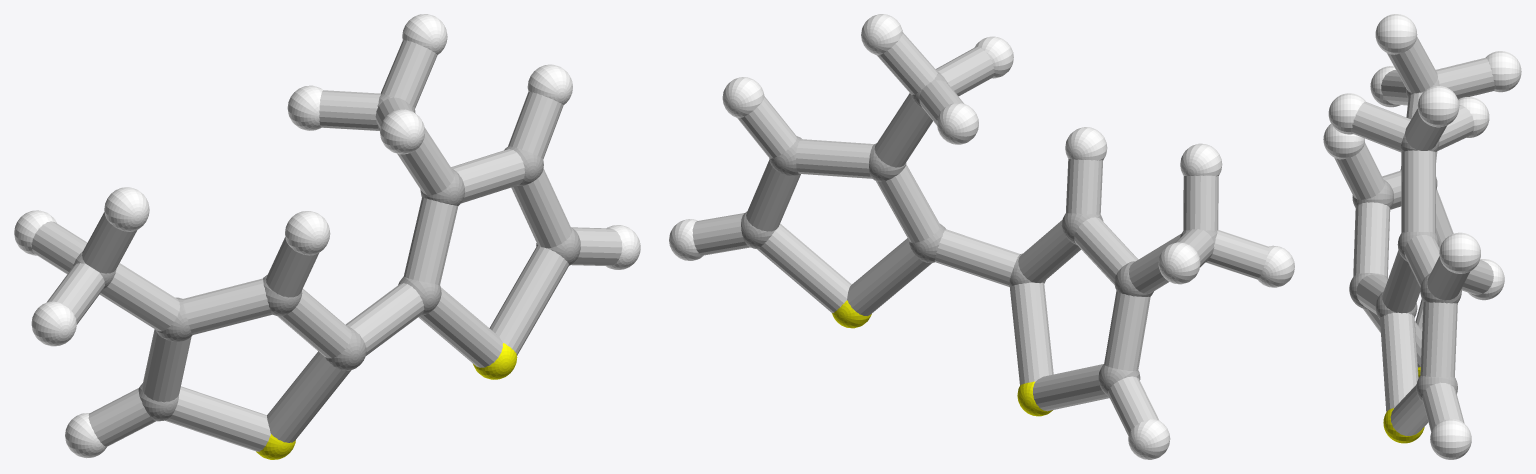
File: Methylthiophene_Phi_40_Theta_160_Methylthiophene.glb
The picture shows the model from 3 angles, left to right: view 1: azimuth 30°, elevation 25°; view 2: azimuth 150°, elevation 25°; view 3: azimuth 270°, elevation 25°; orthographic projection. The views are drawn at different scales.
Parts seen in each view (by area): view 1: grp7965, grp3621, grp1, grp7241; view 2: grp7965, grp3621, grp1, grp7241; view 3: grp7965, grp3621, grp1, grp7241.
Boxes of the visible parts, <box> form: grp7965: <box>31,40,622,451</box>; grp3621: <box>14,14,640,458</box>; grp1: <box>73,94,580,421</box>; grp7241: <box>256,343,517,459</box>; grp7965: <box>692,32,1269,435</box>; grp3621: <box>669,14,1294,459</box>; grp1: <box>741,72,1217,396</box>; grp7241: <box>832,300,1052,416</box>; grp7965: <box>1334,36,1494,435</box>; grp3621: <box>1323,14,1521,459</box>; grp1: <box>1349,78,1461,402</box>; grp7241: <box>1383,367,1424,443</box>.
Size of the model in its own units: 9.7 by 5.78 by 2.85.
